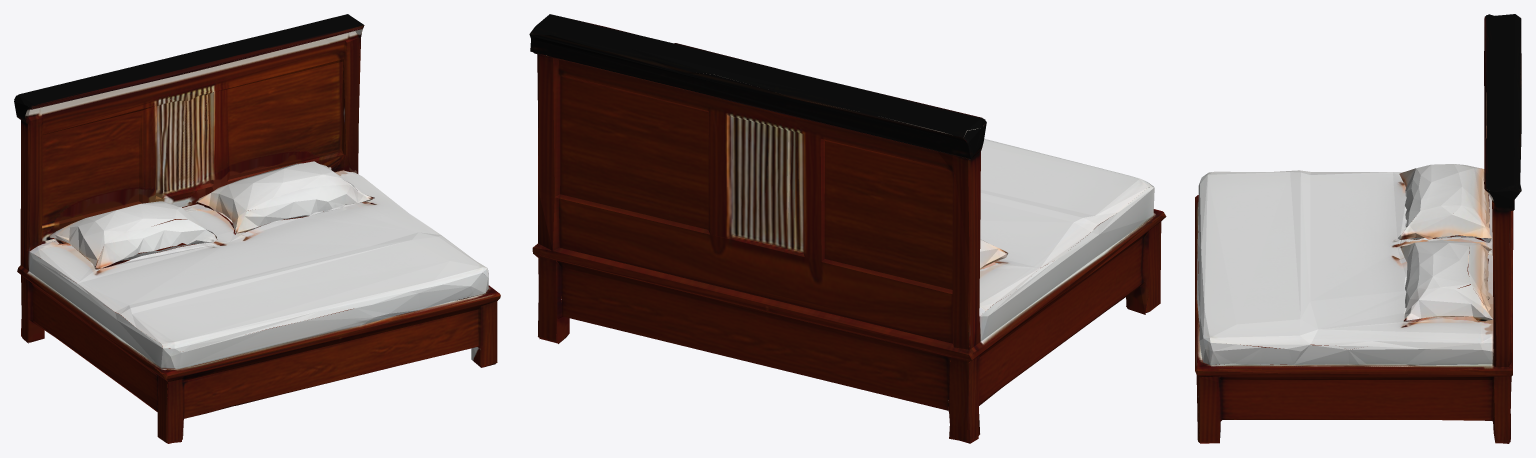
File: bed-hy3d.glb
3 views of the same model, side by side, from view 1: azimuth 30°, elevation 25°; view 2: azimuth 150°, elevation 25°; view 3: azimuth 270°, elevation 25° (orthographic). The views are drawn at different scales.
Visible parts, largest first — view 1: temp_mesh.ply; view 2: temp_mesh.ply; view 3: temp_mesh.ply.
Part boxes in pixels (x1,y1,x2,y2): temp_mesh.ply: (14,14,500,443); temp_mesh.ply: (529,14,1166,443); temp_mesh.ply: (1195,14,1521,443).
Size of the model in its own units: 2 by 1.37 by 1.57.
Materials: 1 (1 with a texture image).
